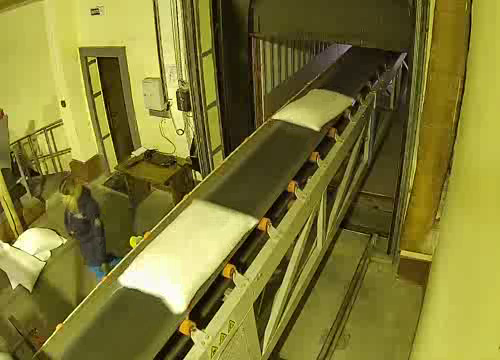bag: (104, 194, 279, 316), (265, 85, 361, 136)
